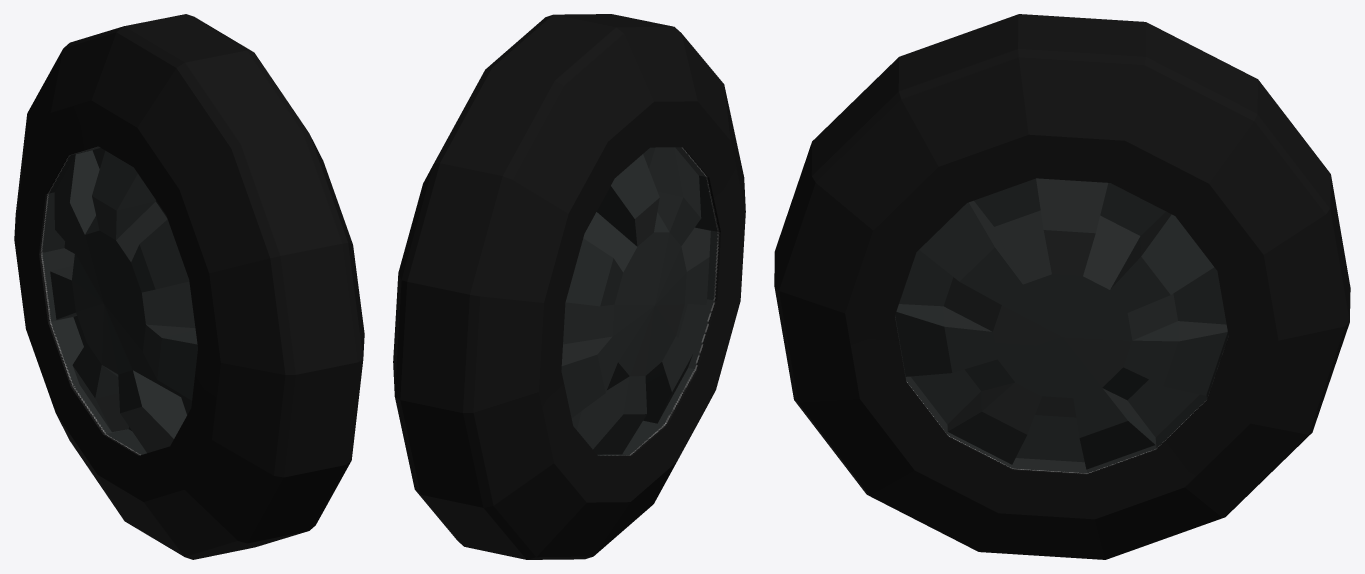
The model's file is right back.fbx.
3 views of the same model, side by side, from view 1: azimuth 30°, elevation 25°; view 2: azimuth 150°, elevation 25°; view 3: azimuth 270°, elevation 25° (orthographic). The views are drawn at different scales.
Parts seen in each view (by area): view 1: right_back; view 2: right_back; view 3: right_back.
Part boxes in pixels (x1=…): right_back: x1=14, y1=14, x2=364, y2=559; right_back: x1=393, y1=14, x2=745, y2=559; right_back: x1=774, y1=14, x2=1350, y2=559.
Size of the model in its own units: 30.81 by 82.76 by 83.2.
